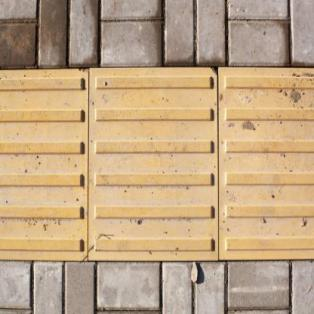Podoctatil: (2, 68, 313, 260)
